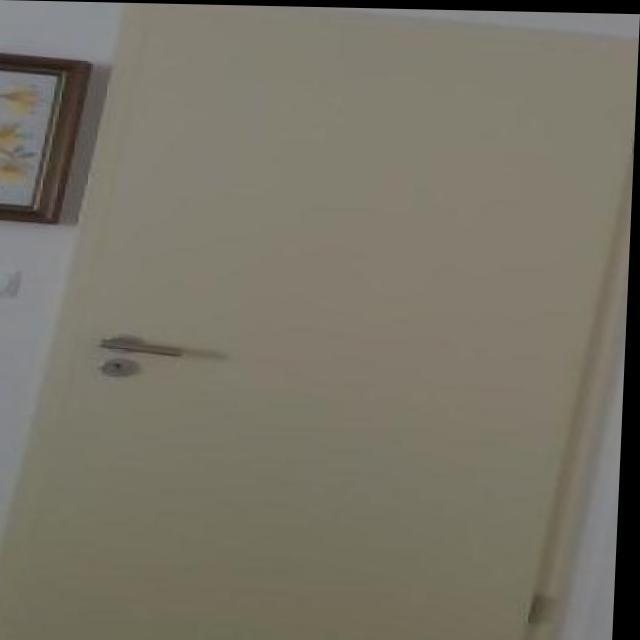door_handle: (91, 336, 194, 361)
